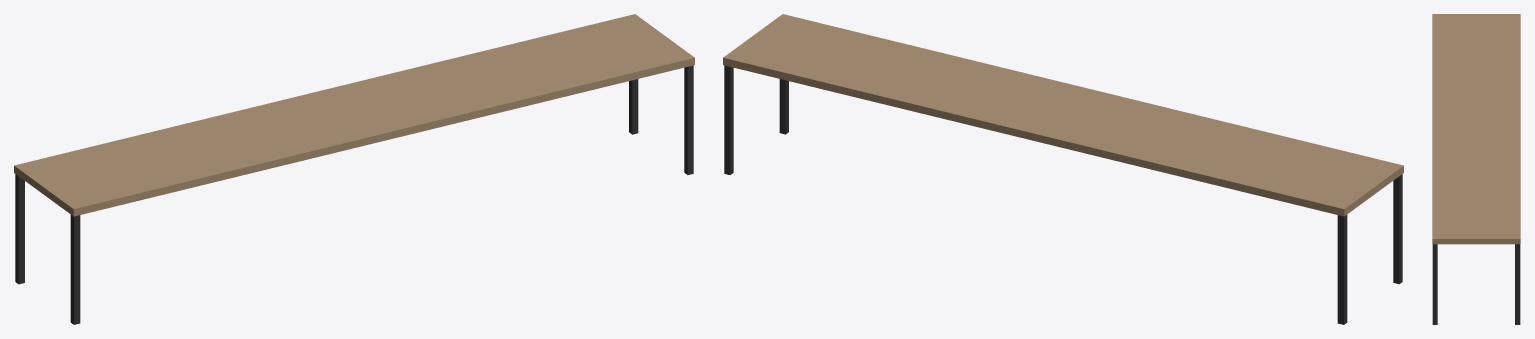
File: bench.glb
3 views of the same model, side by side, from view 1: azimuth 30°, elevation 25°; view 2: azimuth 150°, elevation 25°; view 3: azimuth 270°, elevation 25° (orthographic). The views are drawn at different scales.
Visible parts, largest first — view 1: Bench; view 2: Bench; view 3: Bench.
Boxes of the visible parts, x1,y1,x2,y2 form: Bench: (14, 14, 694, 324); Bench: (723, 14, 1403, 324); Bench: (1432, 14, 1520, 324).
Bounding box in the file's own units: 11.88 × 2.12 × 1.98.
